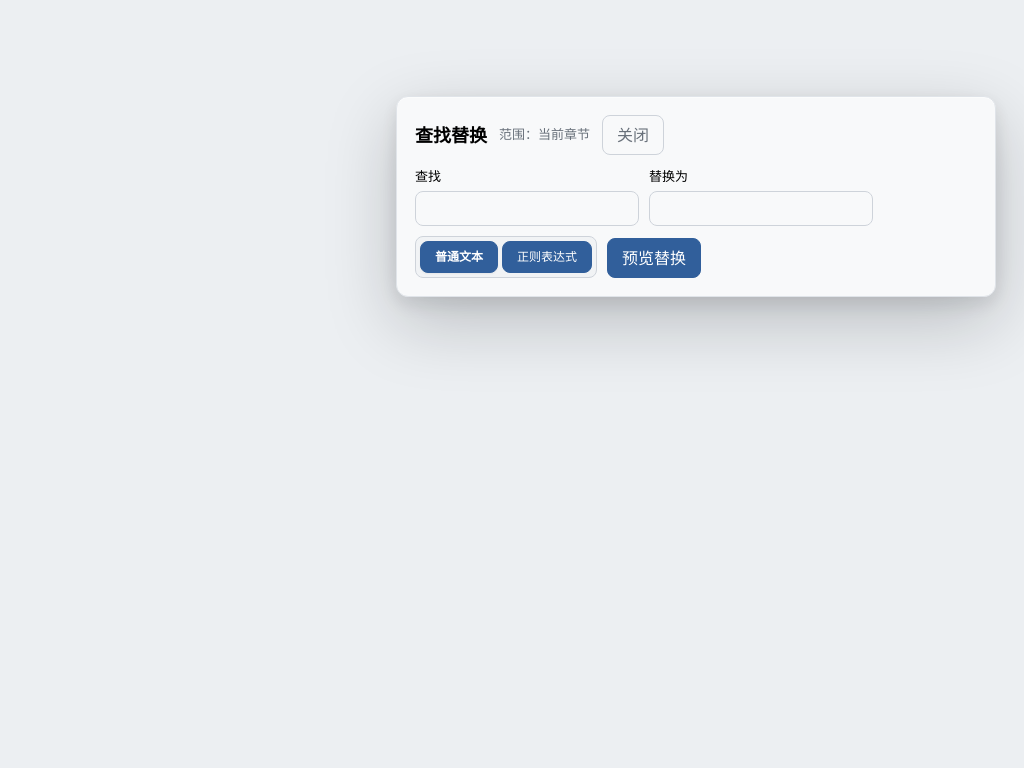
Test: ReplacePanel 逐命中排除与替换计划 › preview 中途取消：回到空闲且不留下计划
This screenshot has width=1024, height=768.
Type "旧" into the field with test id "replace-find" at (527, 208), box x1=415 y1=190 x2=639 y2=226
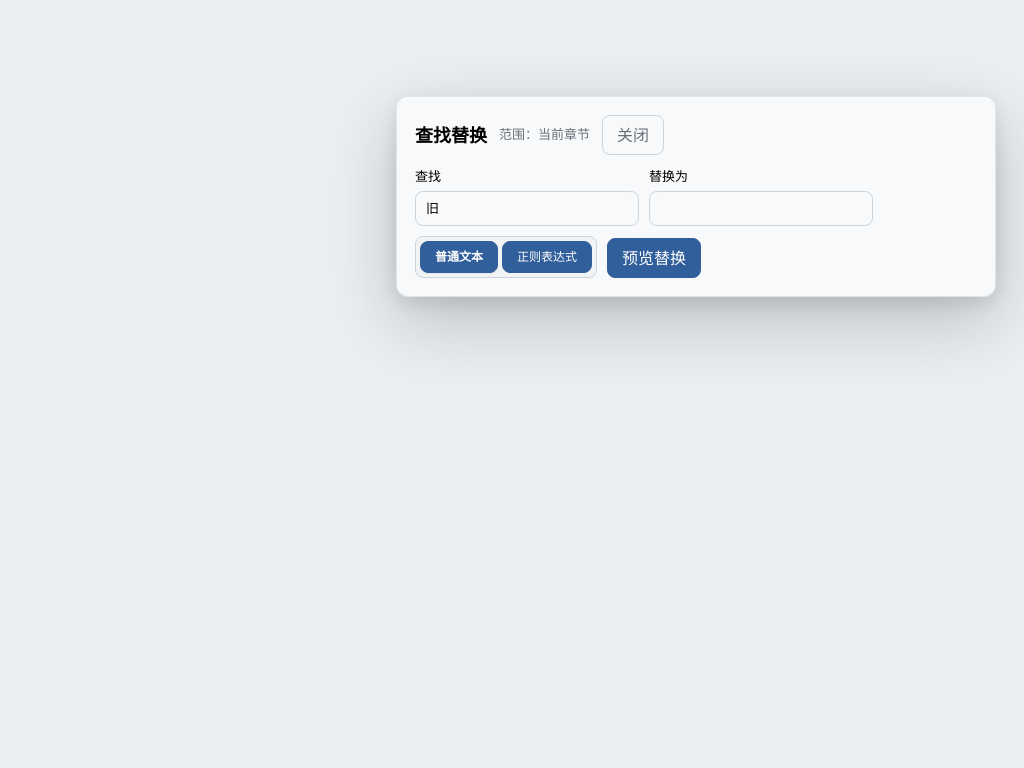
Click the button with test id "replace-preview" at (654, 258), box x1=607 y1=238 x2=701 y2=278
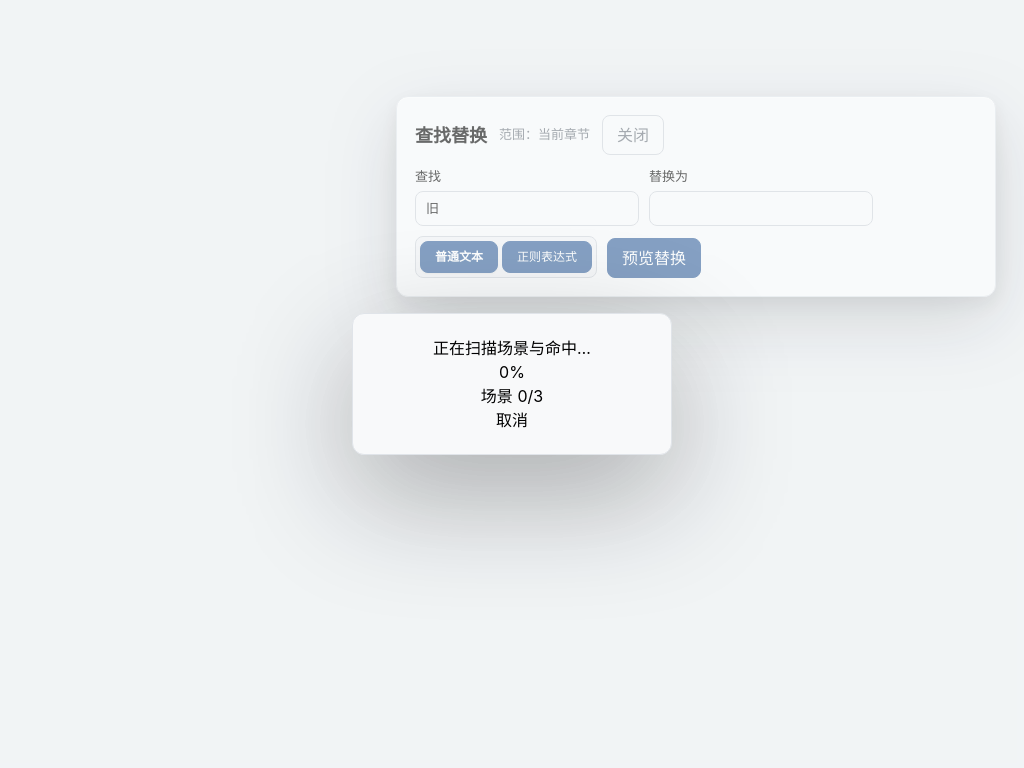
Click the button with test id "replace-cancel" at (512, 420), box x1=496 y1=408 x2=528 y2=432
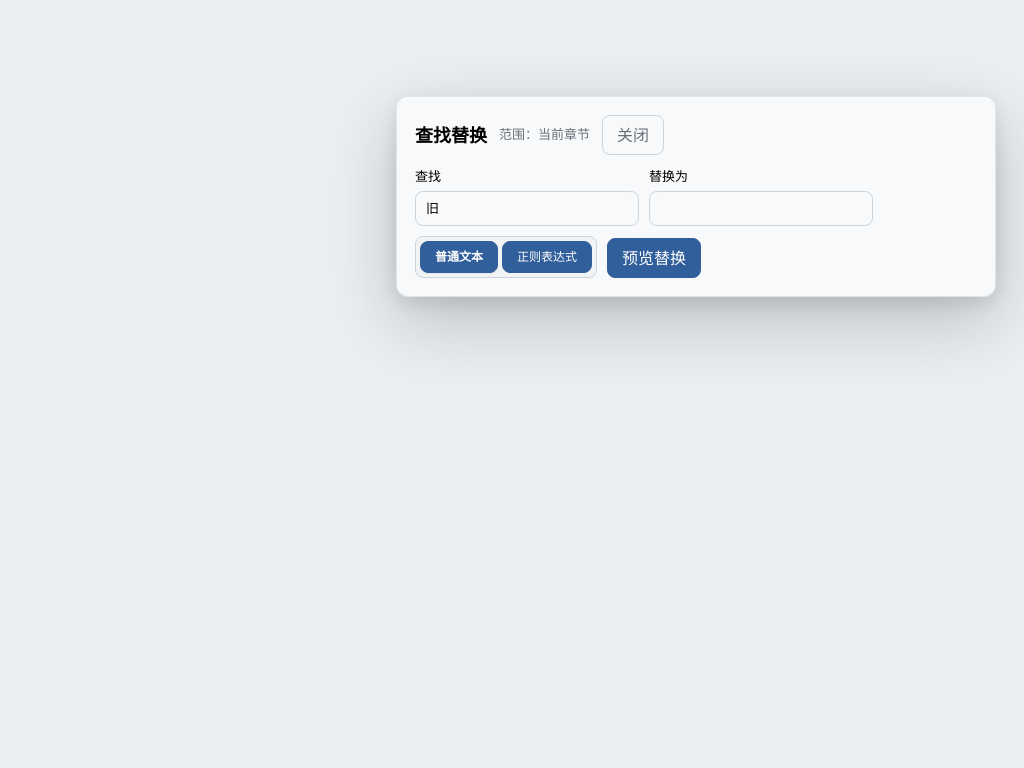
expect the button with test id "replace-preview" is enabled: met, box x1=607 y1=238 x2=701 y2=278
